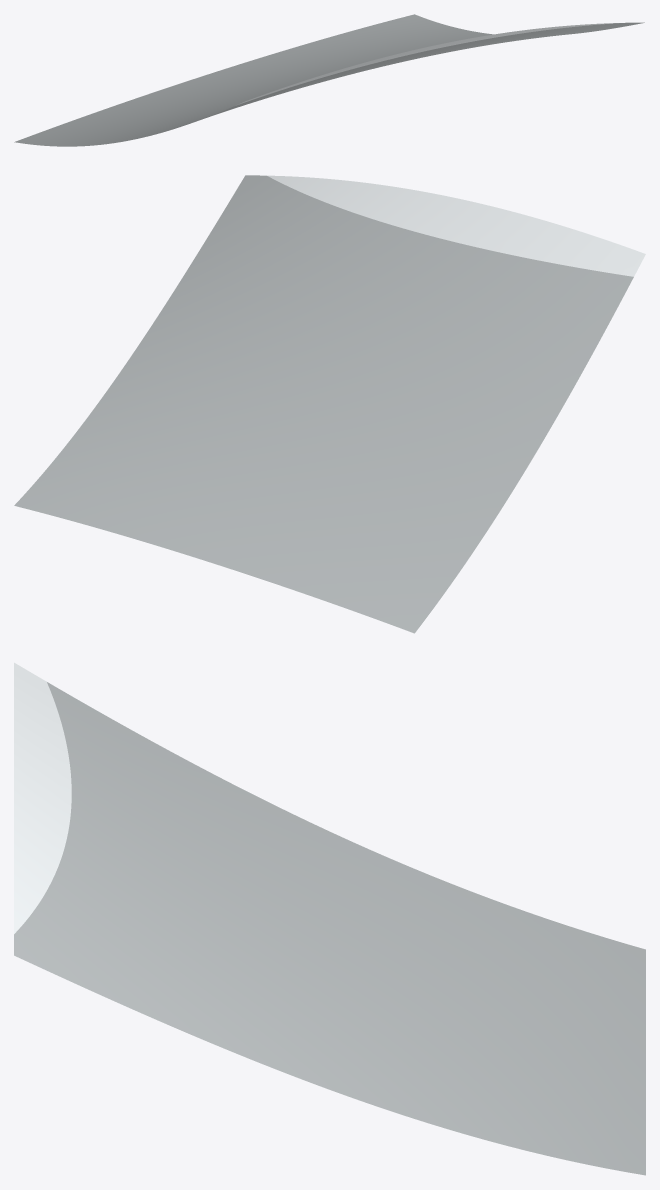
File: alpine-8-4.glb
The picture shows the model from 3 angles, top to bottom: view 1: azimuth 30°, elevation 25°; view 2: azimuth 150°, elevation 25°; view 3: azimuth 270°, elevation 25°; orthographic projection. The views are drawn at different scales.
Parts seen in each view (by area): view 1: alpine-8-4; view 2: alpine-8-4; view 3: alpine-8-4.
Boxes of the visible parts, x1,y1,x2,y2 form: alpine-8-4: (14,14,644,146); alpine-8-4: (14,175,645,633); alpine-8-4: (14,662,645,1175).
Size of the model in its own units: 256 by 135 by 256.
Materials: 2 (2 with a texture image).
